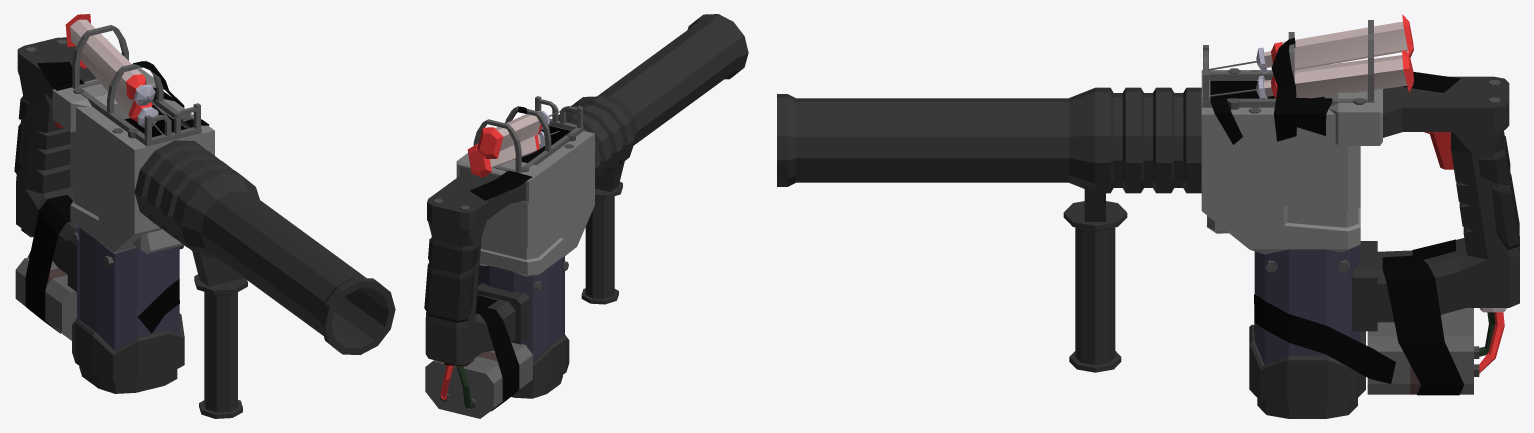
Rendered from SyringeGun.fbx.
3 renders of one model, left to right at view 1: azimuth 30°, elevation 25°; view 2: azimuth 150°, elevation 25°; view 3: azimuth 270°, elevation 25°, orthographic. The views are drawn at different scales.
Parts seen in each view (by area): view 1: SyringeGun, Syringe2, Syringe1; view 2: SyringeGun, Syringe2, Syringe1; view 3: SyringeGun, Syringe1, Syringe2.
Part boxes in pixels (bbox=[...]): SyringeGun: bbox=[14, 25, 395, 418]; Syringe2: bbox=[65, 14, 167, 116]; Syringe1: bbox=[79, 39, 163, 134]; SyringeGun: bbox=[424, 14, 748, 418]; Syringe2: bbox=[477, 111, 560, 158]; Syringe1: bbox=[467, 131, 559, 177]; SyringeGun: bbox=[777, 20, 1519, 418]; Syringe1: bbox=[1210, 50, 1413, 98]; Syringe2: bbox=[1208, 14, 1413, 73].
Bounding box in the file's own units: 7.93 × 28.33 × 50.4.
